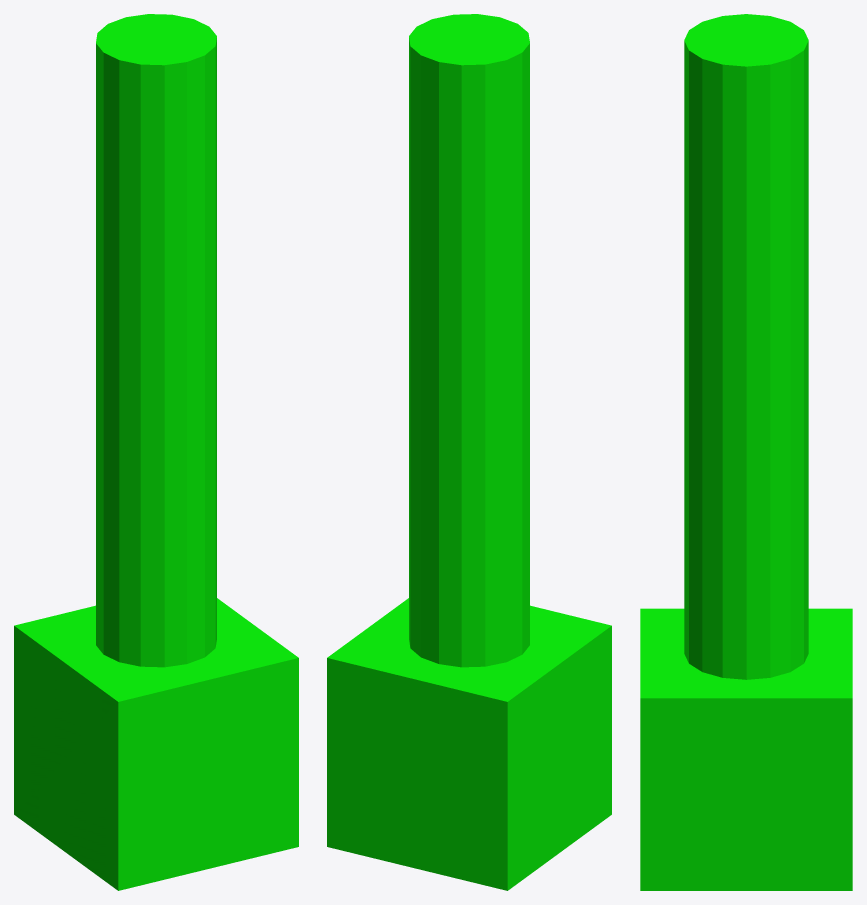
The model's file is gizmo_scale_y.obj.
3 renders of one model, left to right at view 1: azimuth 30°, elevation 25°; view 2: azimuth 150°, elevation 25°; view 3: azimuth 270°, elevation 25°, orthographic.
Visible parts, largest first — view 1: Gizmo_Scale.001; view 2: Gizmo_Scale.001; view 3: Gizmo_Scale.001.
Boxes of the visible parts, bbox=[...] form: Gizmo_Scale.001: bbox=[14, 14, 298, 890]; Gizmo_Scale.001: bbox=[327, 14, 611, 890]; Gizmo_Scale.001: bbox=[640, 14, 852, 890].
Bounding box in the file's own units: 0.3094 × 1.3 × 0.3094.
